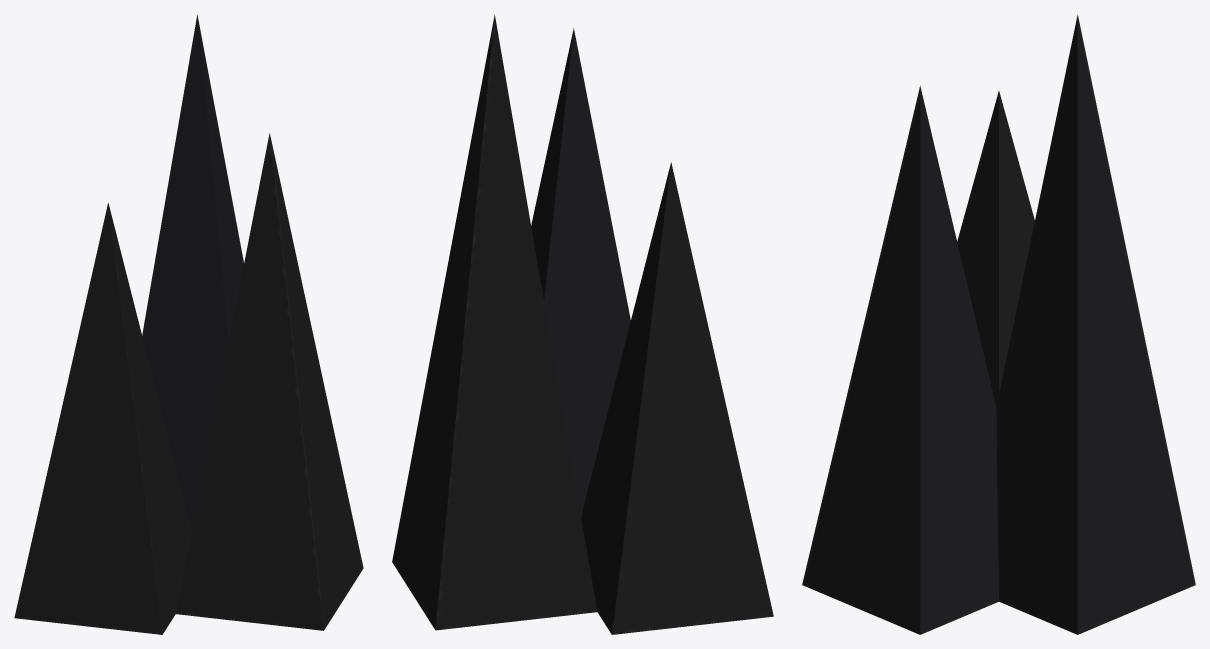
File: rocks.gltf
3 renders of one model, left to right at view 1: azimuth 30°, elevation 25°; view 2: azimuth 150°, elevation 25°; view 3: azimuth 270°, elevation 25°, orthographic. The views are drawn at different scales.
Visible parts, largest first — view 1: Cone; view 2: Cone; view 3: Cone.
Part boxes in pixels (x1=…): Cone: x1=14, y1=15, x2=363, y2=634; Cone: x1=392, y1=14, x2=773, y2=634; Cone: x1=802, y1=14, x2=1195, y2=634.
Bounding box in the file's own units: 5 × 8 × 5.
1 material, 1 textured.
